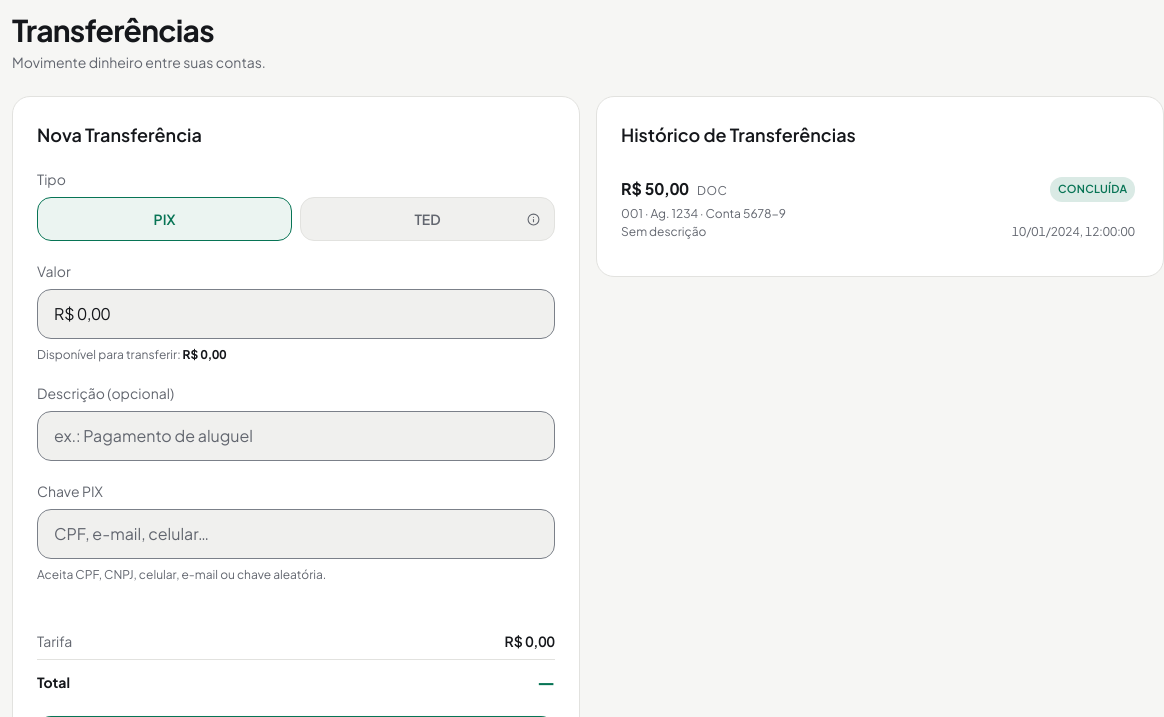
Scenario: Transferências: tarifa, total e o fim do DOC › PIX mostra tarifa zero; TED mostra R$ 10,00 e o total antes de enviar
The width and height of the screenshot is (1164, 717).
Replace the text in the field named "Valor da transferência" with "10000": (296, 314) 37,289 -> 555,339
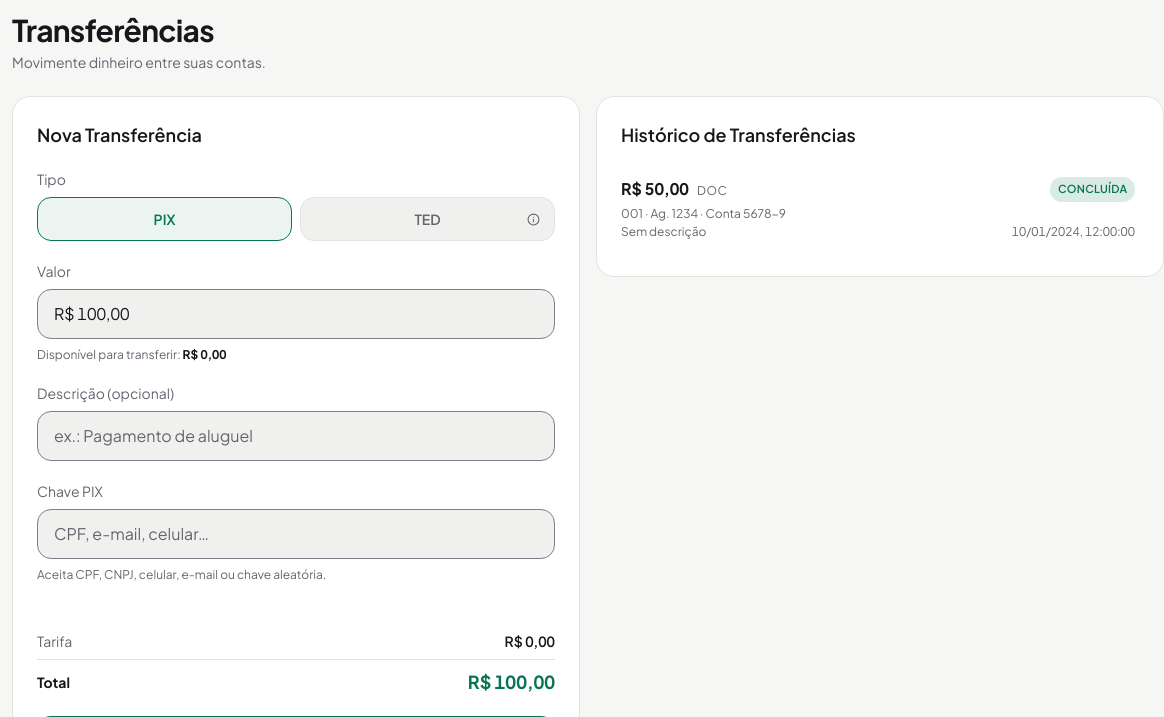
Check: the text "Tarifa" reads "Tarifa R$ 0,00 Total R$ 100,00", box 37,631 -> 555,696
Click the button "TED": (428, 219) 300,197 -> 555,241
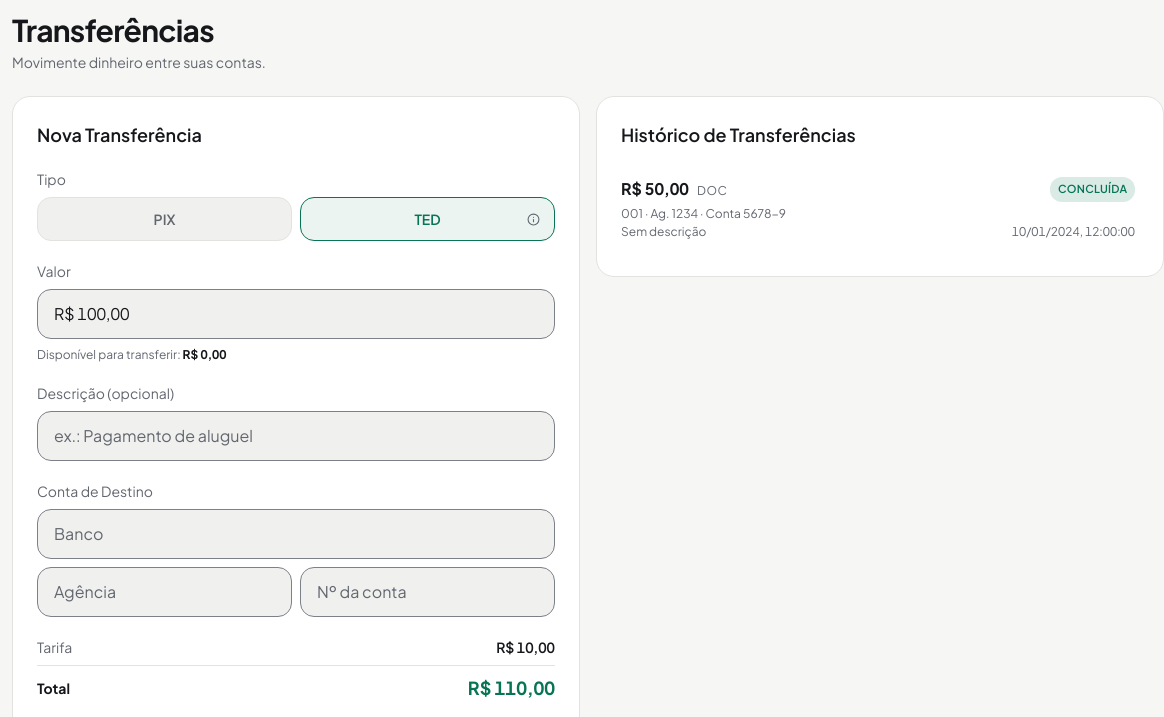
Check: the text "Tarifa" reads "Tarifa R$ 10,00 Total R$ 110,00", box 37,637 -> 555,702
